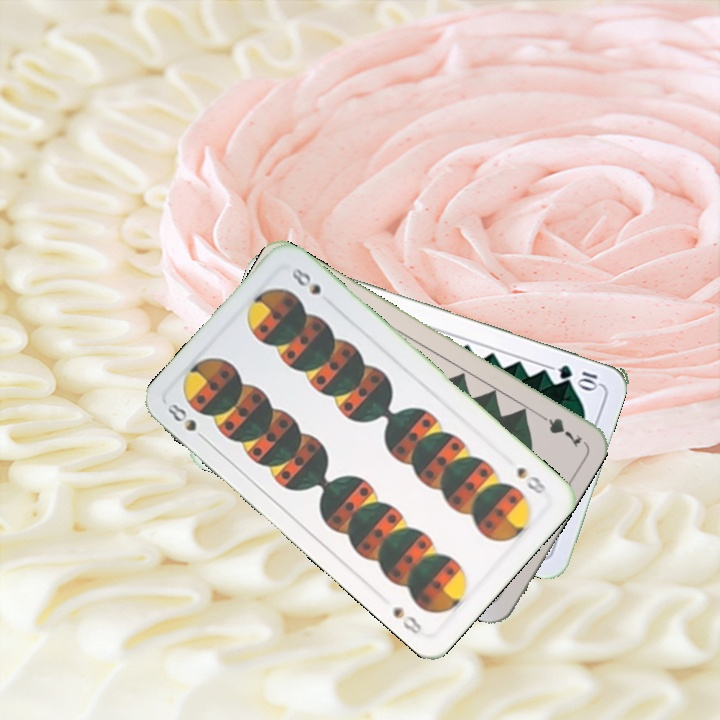G10: (554, 360, 603, 392)
G7: (532, 407, 585, 450)
S8: (163, 398, 211, 445), (513, 463, 549, 497)
